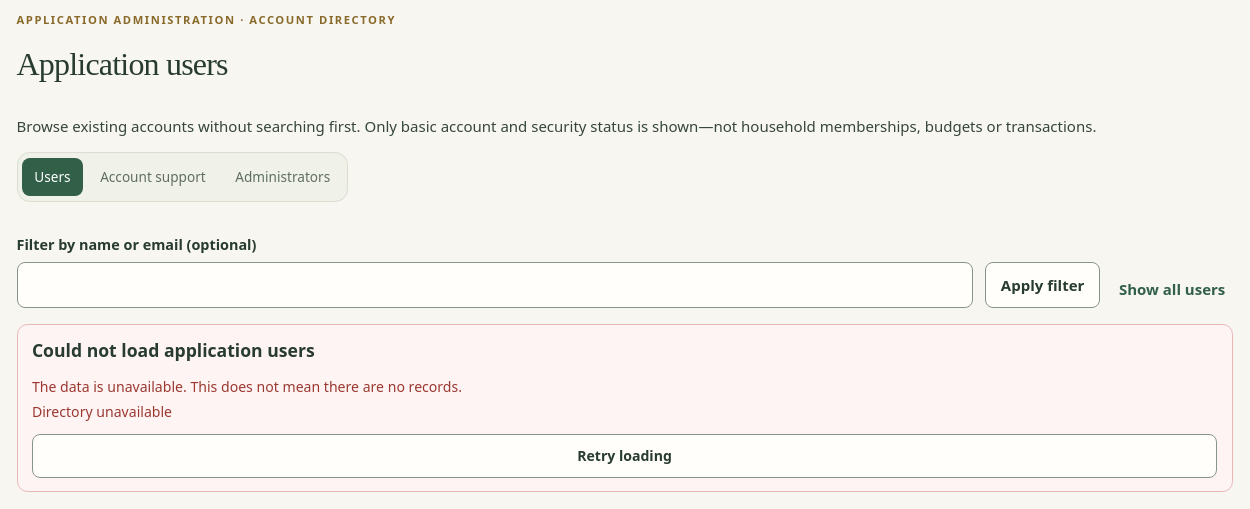
Test: application user directory › distinguishes zero matches from a failed initial request and retries only reads
Expected: the text "Directory unavailable" is shown, left=32, top=402, right=172, bottom=421
Expected: the text "No registered users were returned." is not shown
Click the button "Retry loading" at [624, 456], box left=32, top=434, right=1217, bottom=478
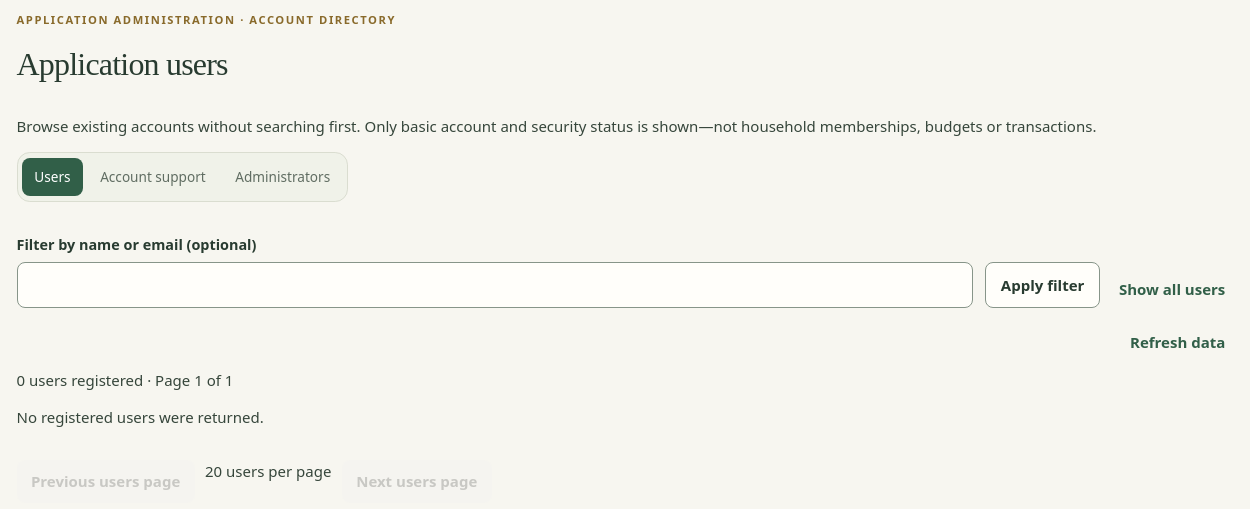
Result: the text "No registered users were returned." is shown at left=16, top=407, right=264, bottom=427
